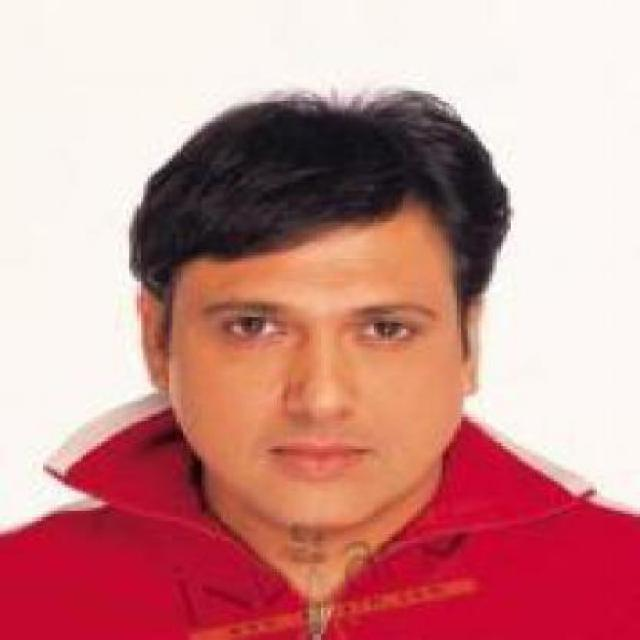closed-mouth: (268, 432, 384, 486)
